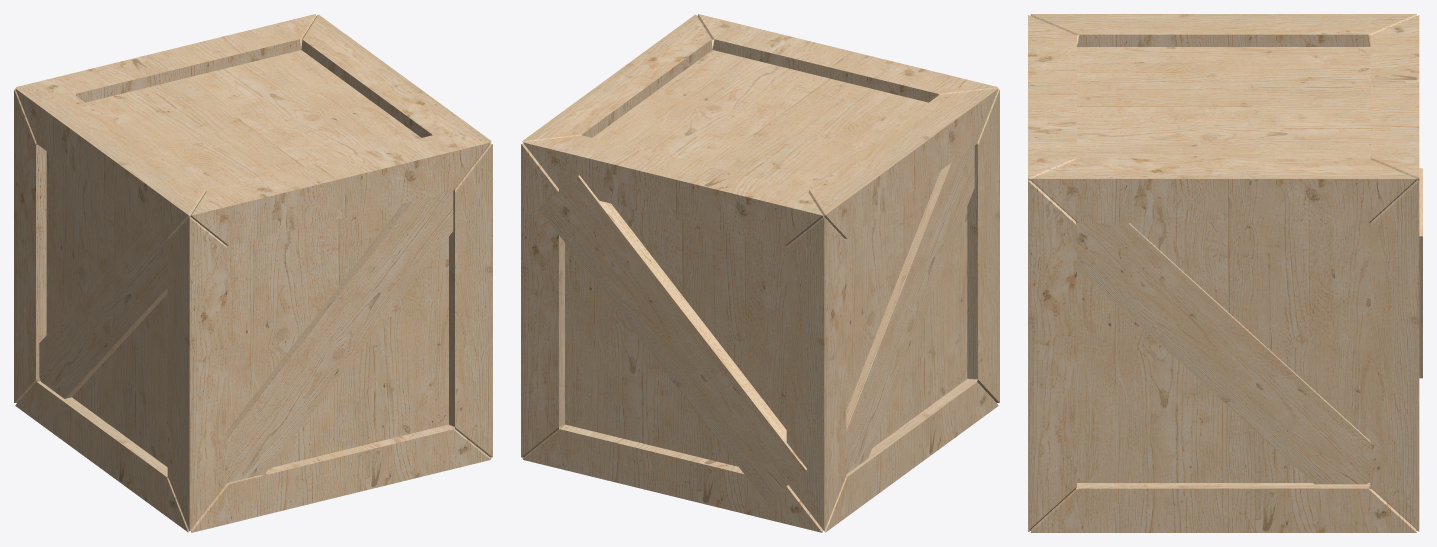
Rendered from BoxPack1.fbx.
The picture shows the model from 3 angles, left to right: view 1: azimuth 30°, elevation 25°; view 2: azimuth 150°, elevation 25°; view 3: azimuth 270°, elevation 25°; orthographic projection. The views are drawn at different scales.
Parts seen in each view (by area): view 1: Box_4; view 2: Box_4; view 3: Box_4.
Part boxes in pixels (x1,y1,x2,y2): Box_4: [14, 14, 492, 532]; Box_4: [521, 14, 999, 532]; Box_4: [1028, 14, 1422, 532].
Size of the model in its own units: 198 by 198 by 200.
